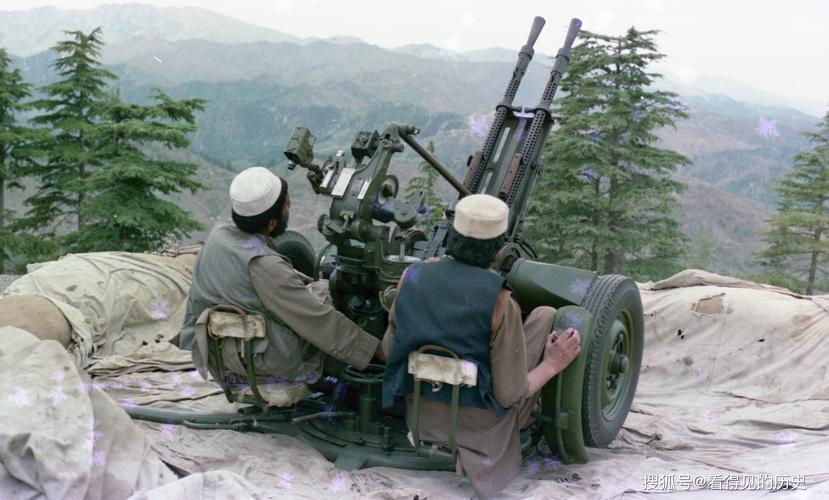MIL_SPG: (272, 19, 643, 463), (222, 363, 452, 467)
